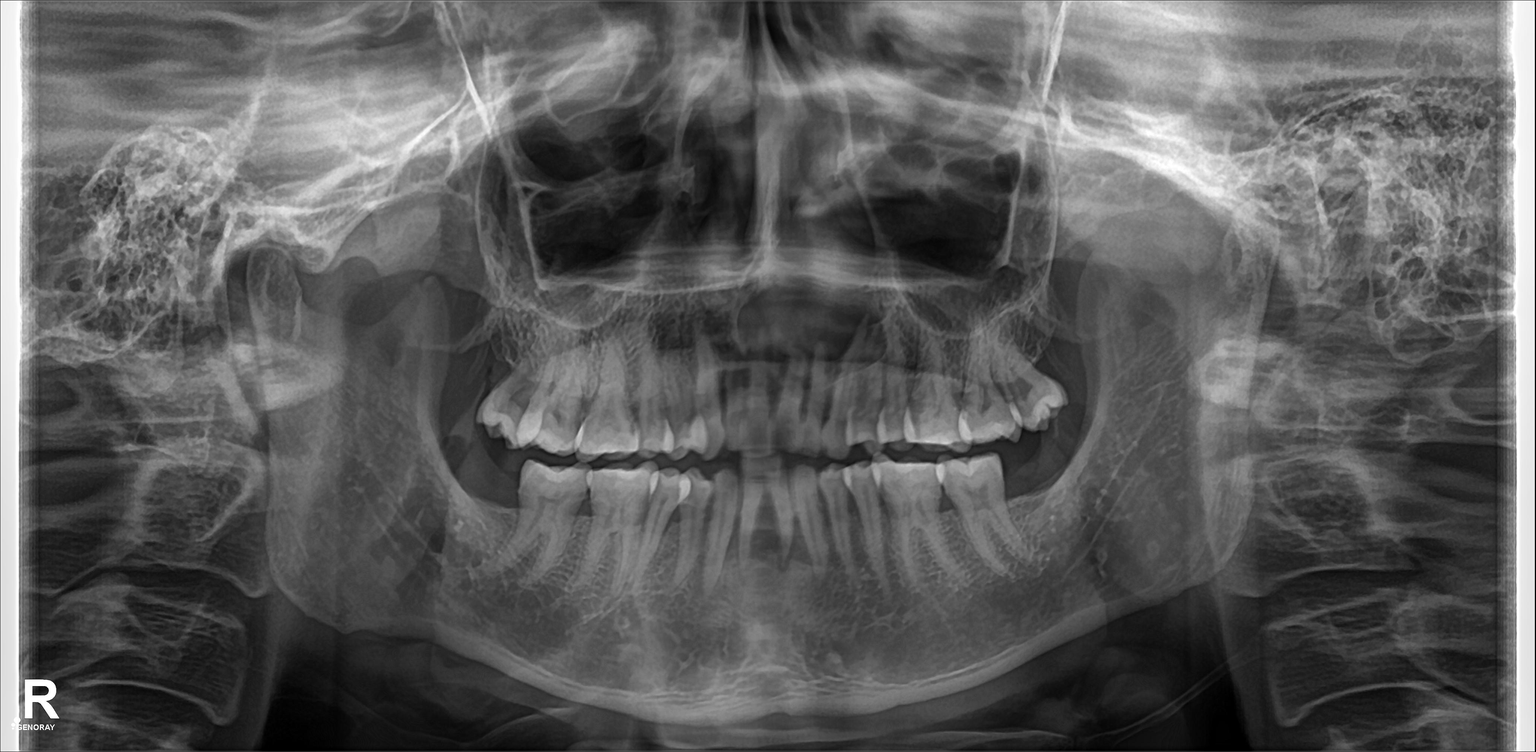Dental Caries: (508, 382, 538, 417), (1006, 374, 1031, 404)
Missing Tooth: (439, 342, 487, 426), (467, 460, 515, 529), (1000, 456, 1046, 521), (1052, 445, 1085, 526)
